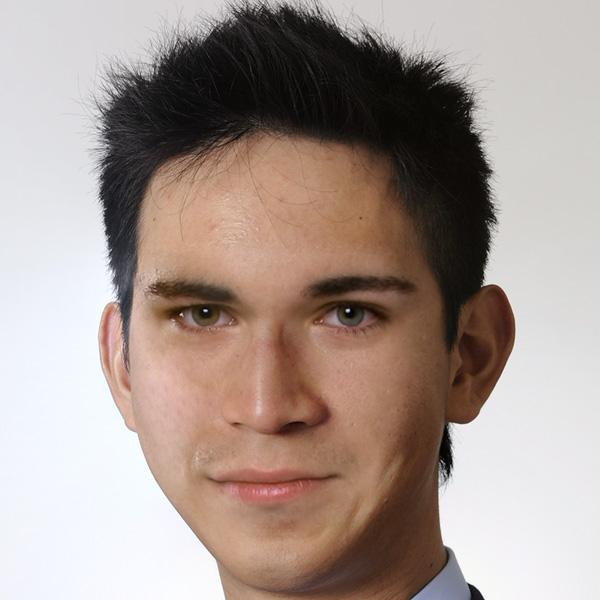Eyes: (298, 289, 401, 347), (151, 289, 249, 348)
